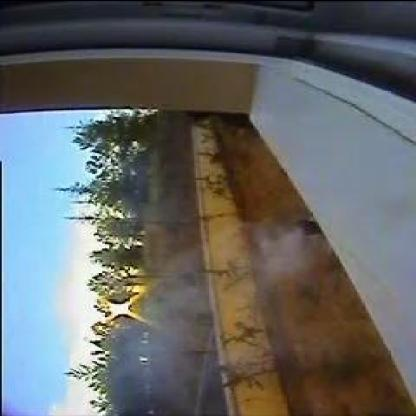-: (250, 227, 308, 283)
